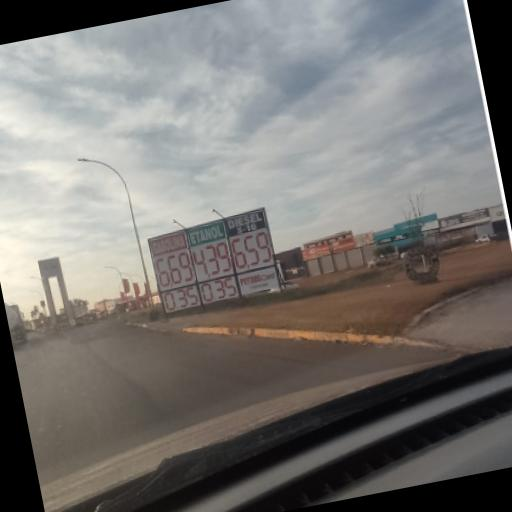ETANOL: (189, 224, 228, 244)
GASOLINA C: (151, 234, 189, 256)
S10: (226, 212, 268, 236)
placa: (147, 207, 277, 293)
preco: (229, 232, 274, 271), (192, 241, 234, 279), (155, 250, 196, 288)
